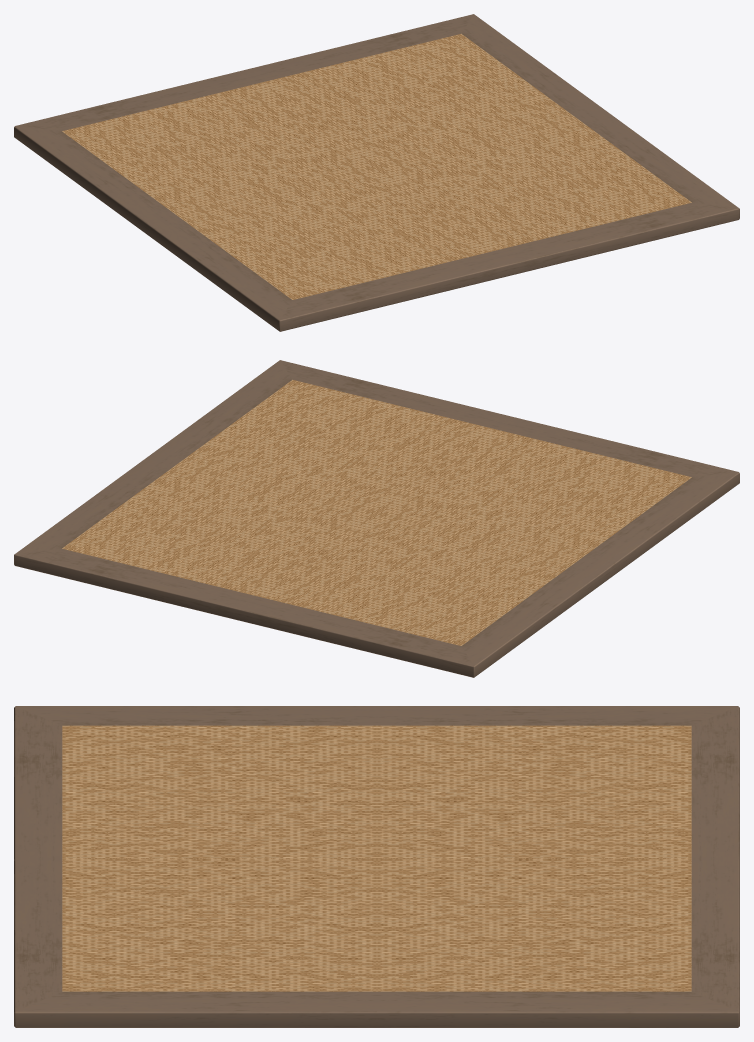
File: SM_interior_modules_02.fbx
3 views of the same model, one above another, from view 1: azimuth 30°, elevation 25°; view 2: azimuth 150°, elevation 25°; view 3: azimuth 270°, elevation 25° (orthographic). The views are drawn at different scales.
Parts seen in each view (by area): view 1: SM_interior_modules_02; view 2: SM_interior_modules_02; view 3: SM_interior_modules_02.
Boxes of the visible parts, box(x1,y1,x2,y2) form: SM_interior_modules_02: box(14, 14, 739, 331); SM_interior_modules_02: box(14, 360, 739, 677); SM_interior_modules_02: box(14, 706, 739, 1027).
Bounding box in the file's own units: 280 × 280 × 7.
1 material, 1 textured.
